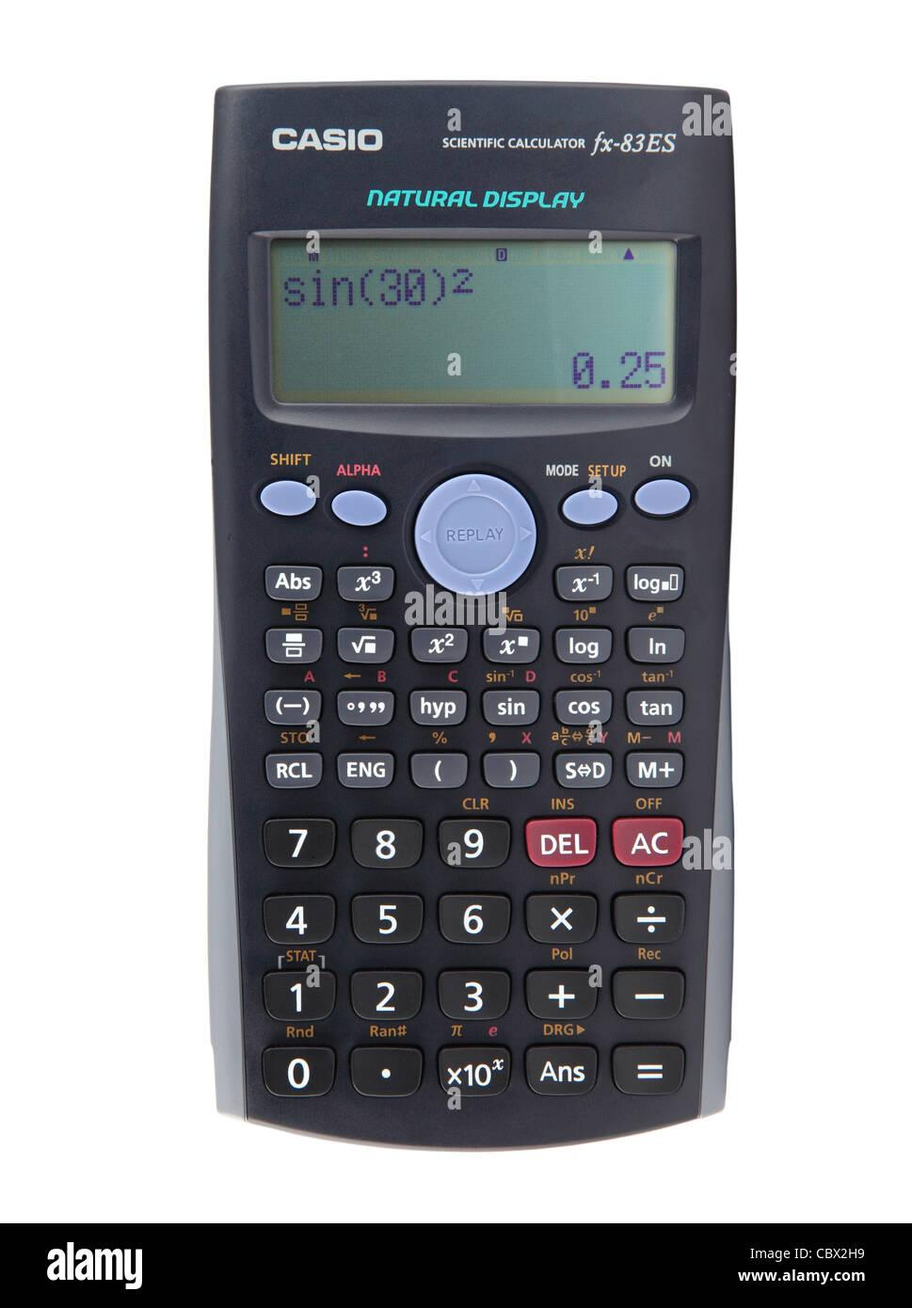Calculator: (171, 31, 786, 1184)
